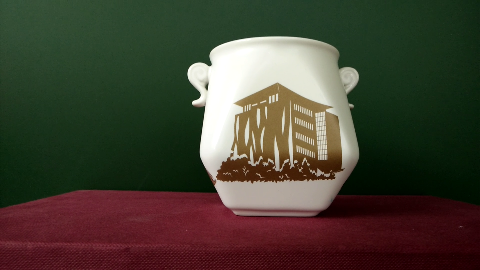library: (221, 102, 333, 178)
